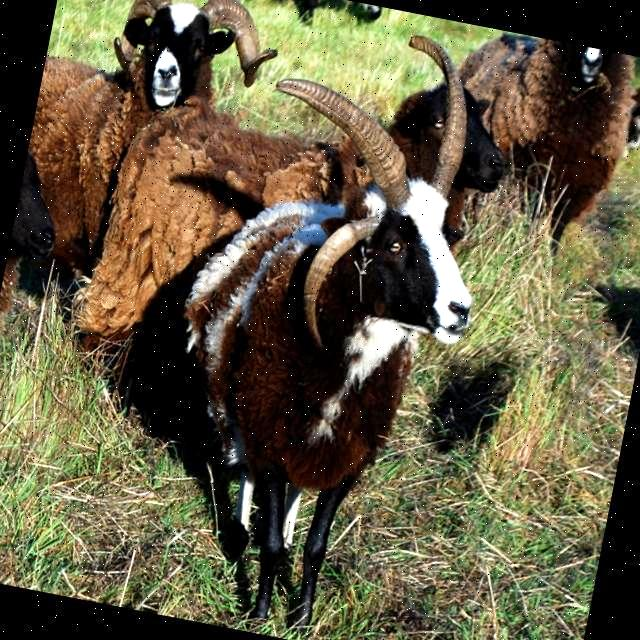sheep: (183, 74, 472, 620), (81, 94, 500, 338), (29, 0, 276, 282), (485, 33, 636, 241), (0, 151, 53, 328), (459, 32, 524, 94), (293, 0, 383, 24)
